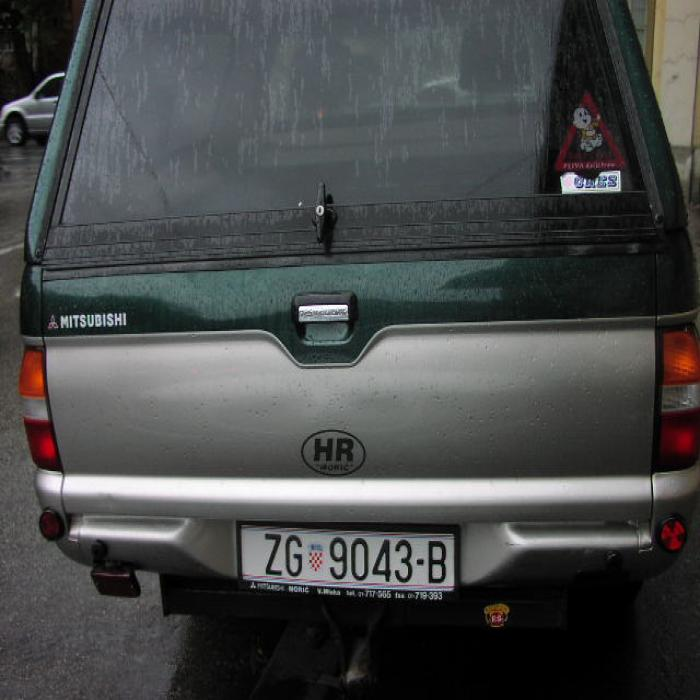number_plate: (238, 526, 453, 585)
